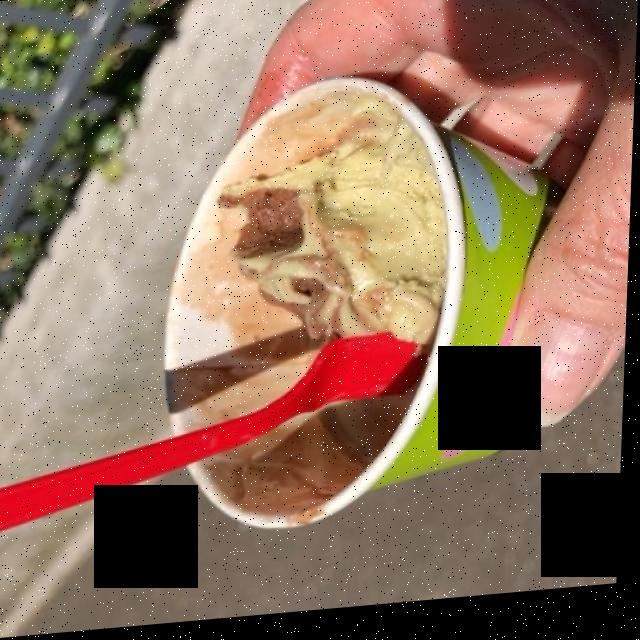dairy-ice-cream: (245, 139, 455, 357)
